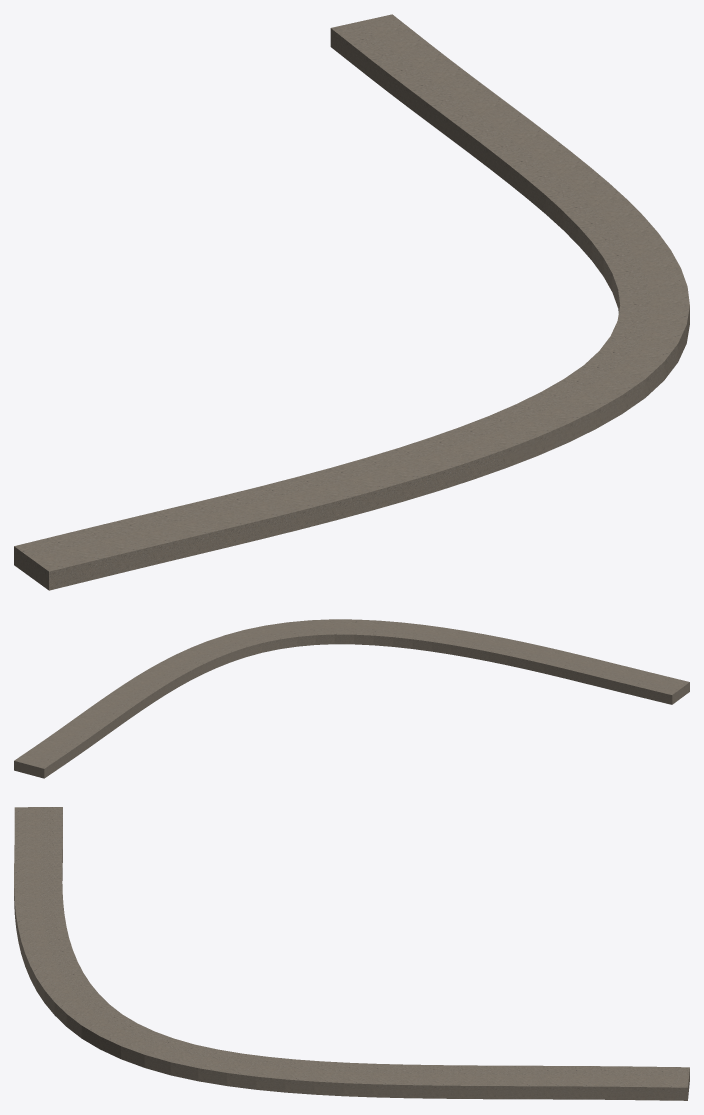
Rendered from Sidestone_Curve.fbx.
The picture shows the model from 3 angles, top to bottom: view 1: azimuth 30°, elevation 25°; view 2: azimuth 150°, elevation 25°; view 3: azimuth 270°, elevation 25°; orthographic projection. The views are drawn at different scales.
Visible parts, largest first — view 1: Sidestone_curve; view 2: Sidestone_curve; view 3: Sidestone_curve.
Part boxes in pixels (<box>): Sidestone_curve: <box>14,14,689,590</box>; Sidestone_curve: <box>14,619,689,778</box>; Sidestone_curve: <box>14,807,689,1100</box>.
Size of the model in its own units: 1163 by 1184 by 25.44.
1 material, 1 textured.
